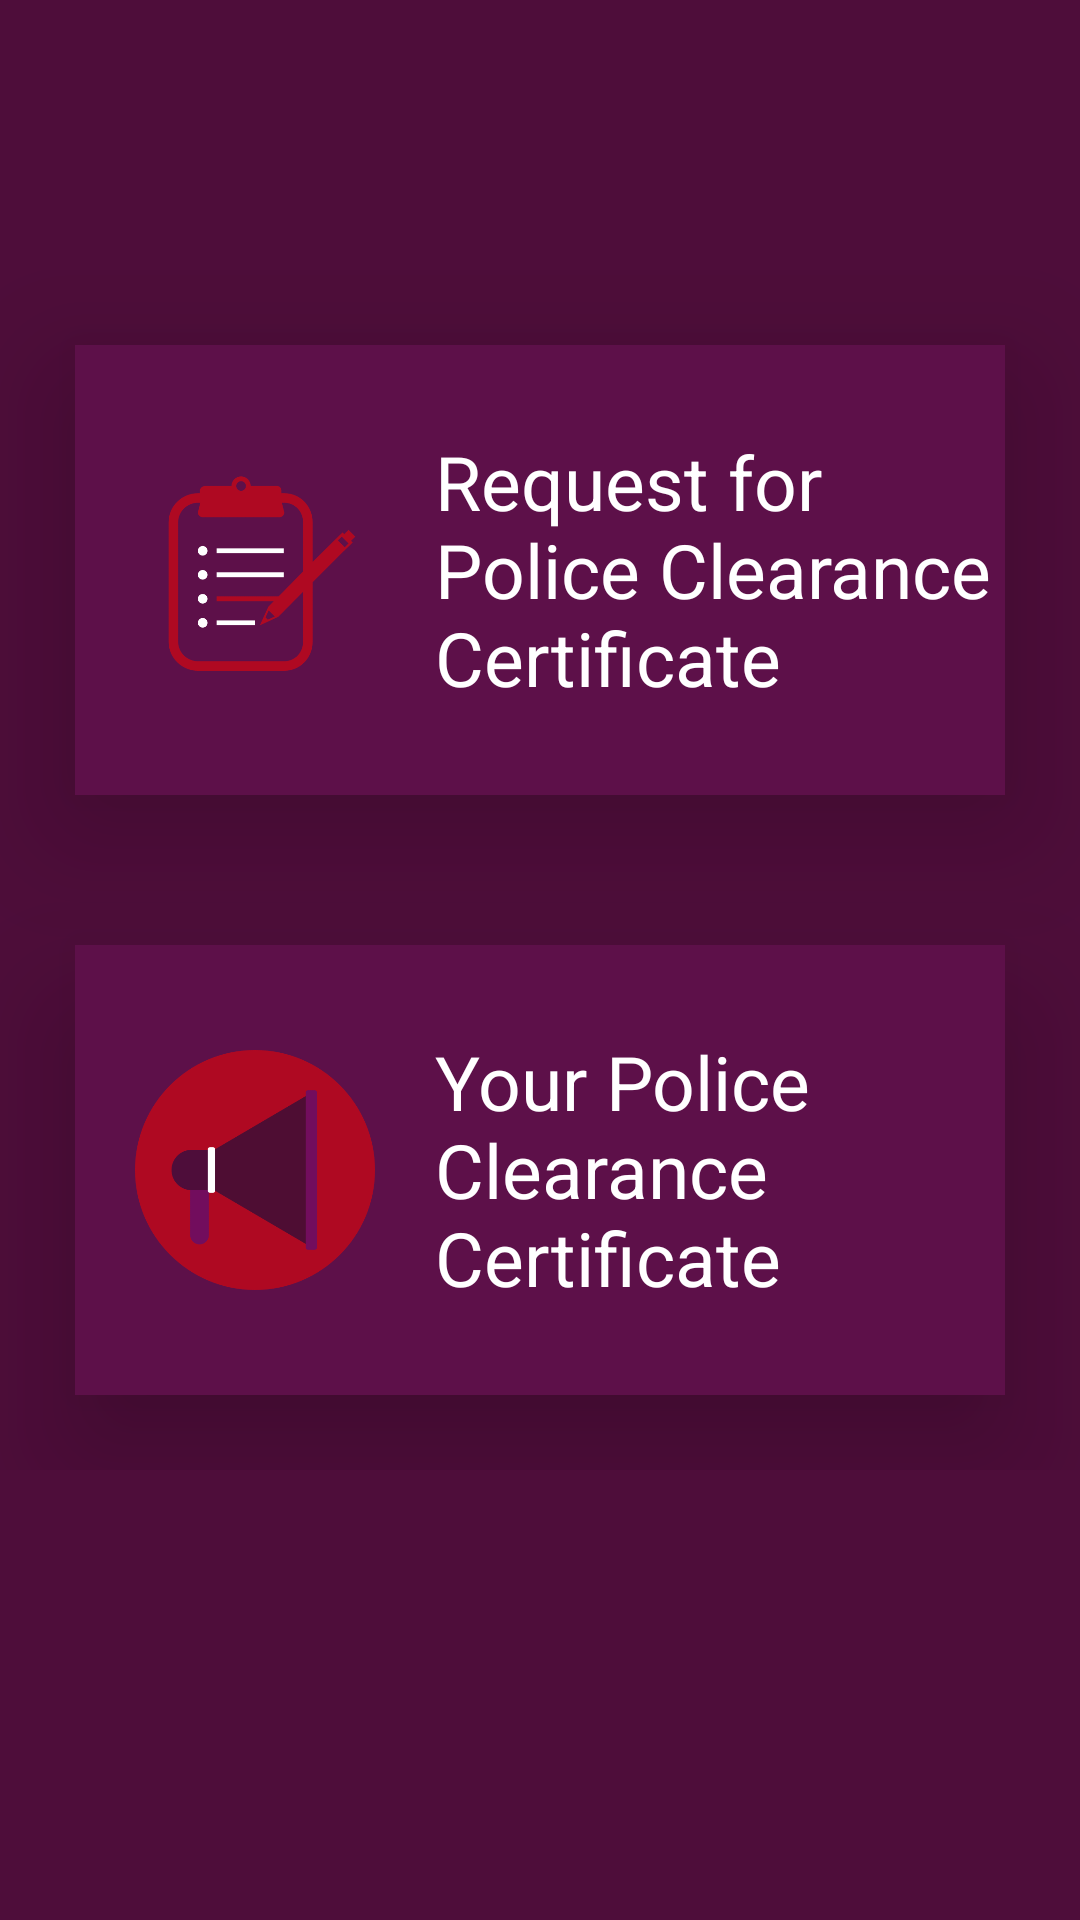

Named icons in this screenshot (1080 x 1920) and their bounding boxes, (x1, y1, x2, y2):
complaint: (168, 476, 355, 671)
